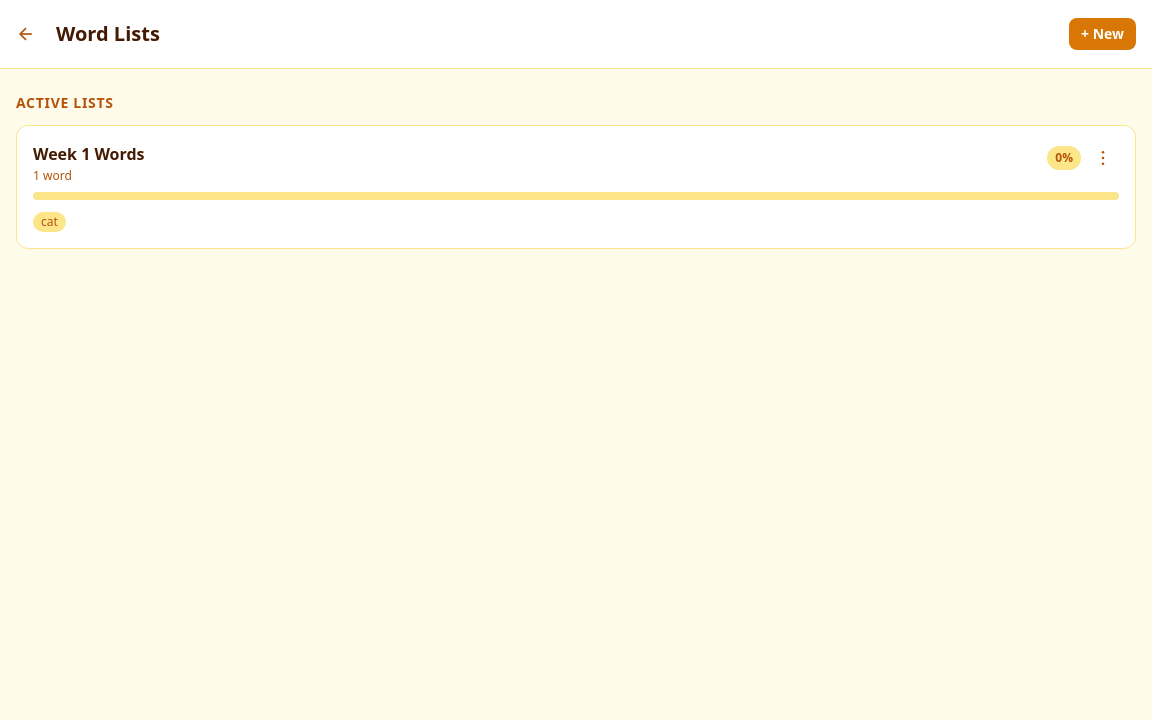
Test: WordListsView edit/delete/archive › dismisses delete dialog when Cancel is clicked
What coordinates should you click on to do the following:
click the button named "Actions for Week 1 Words"
I would click on:
 (1103, 158)
Its box is [1087, 142, 1119, 174].
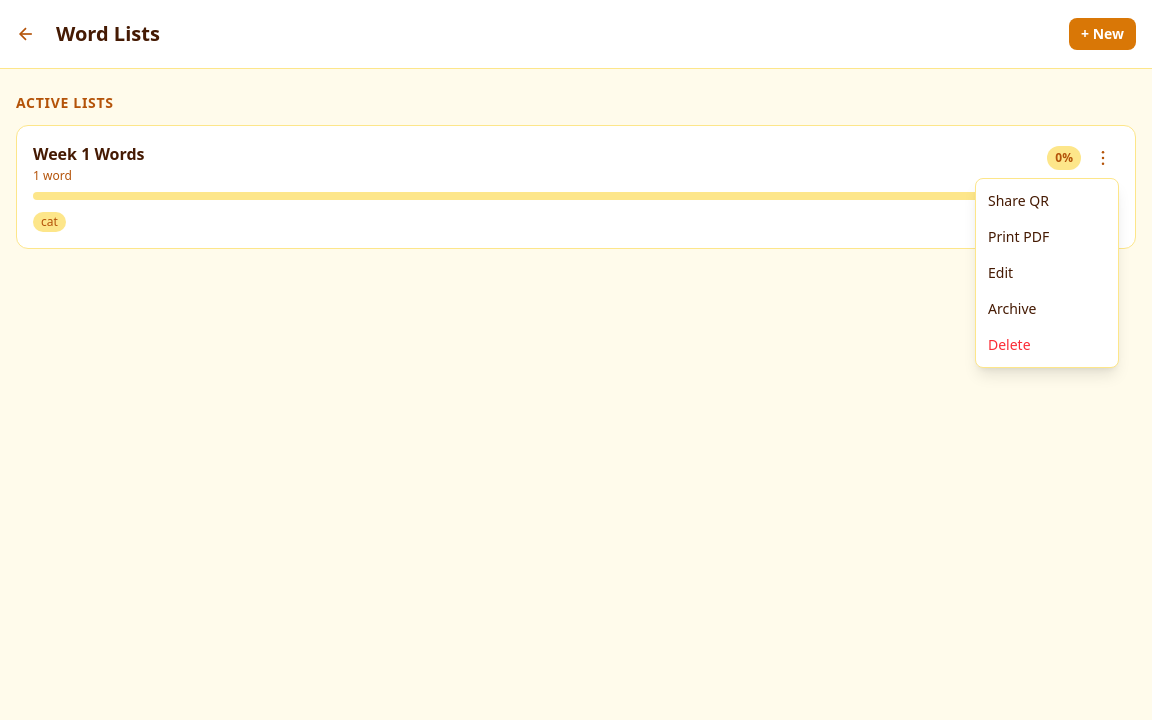
What coordinates should you click on to do the following:
click the button "Delete"
I would click on:
 (1047, 345)
Its box is [976, 327, 1118, 363].
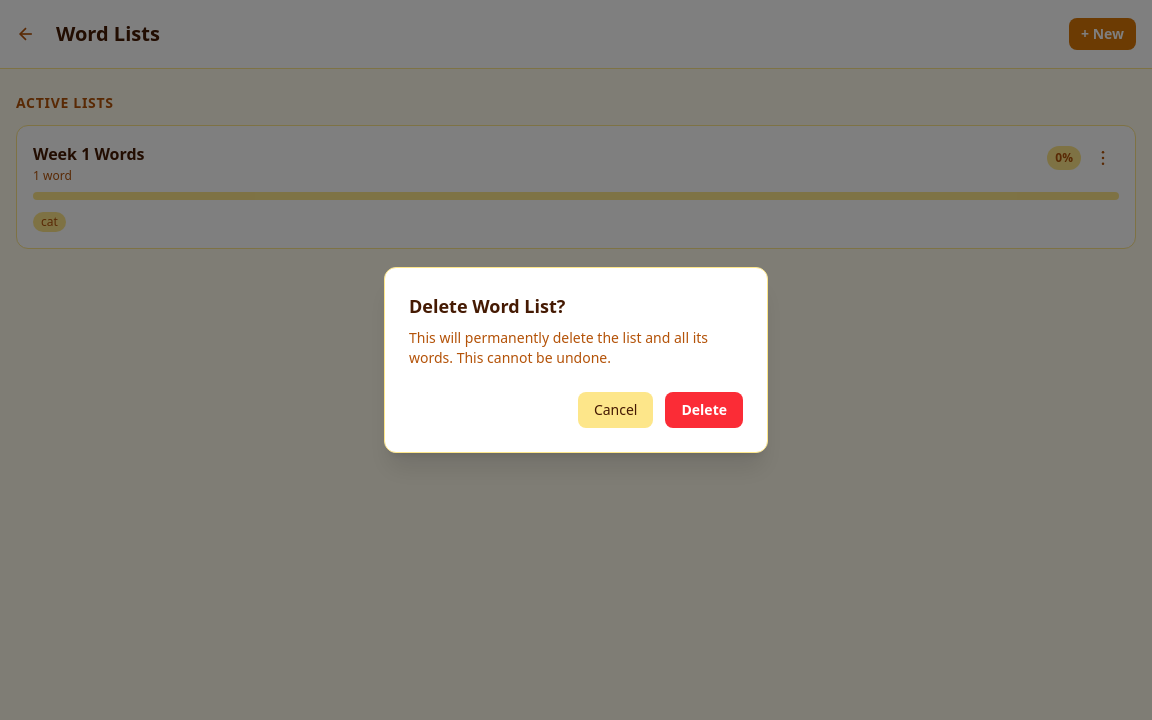
What coordinates should you click on to do the following:
click the button with test id "delete-cancel-btn"
I would click on:
 (616, 410)
Its box is [578, 392, 654, 428].
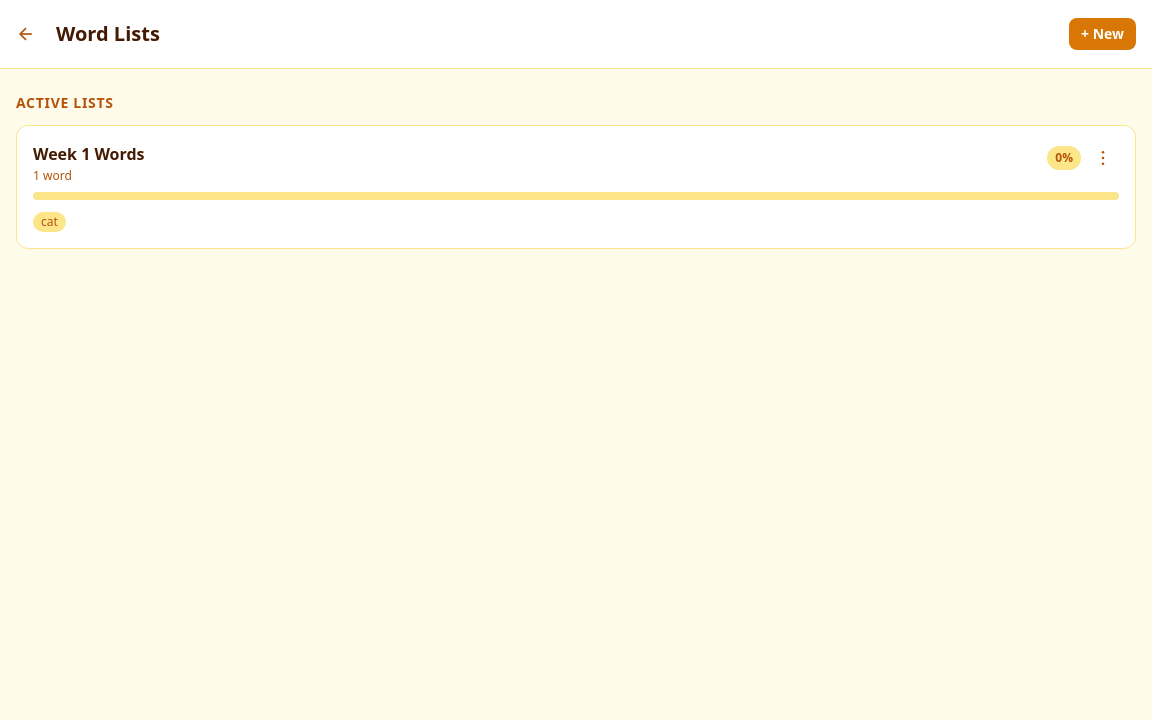
Now the element with test id "delete-confirm-dialog" is gone
